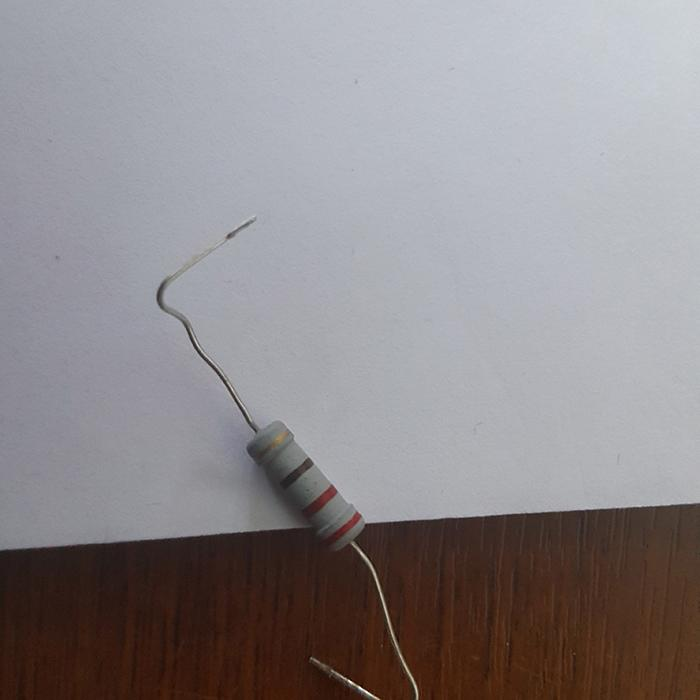resistor: (244, 417, 364, 552)
